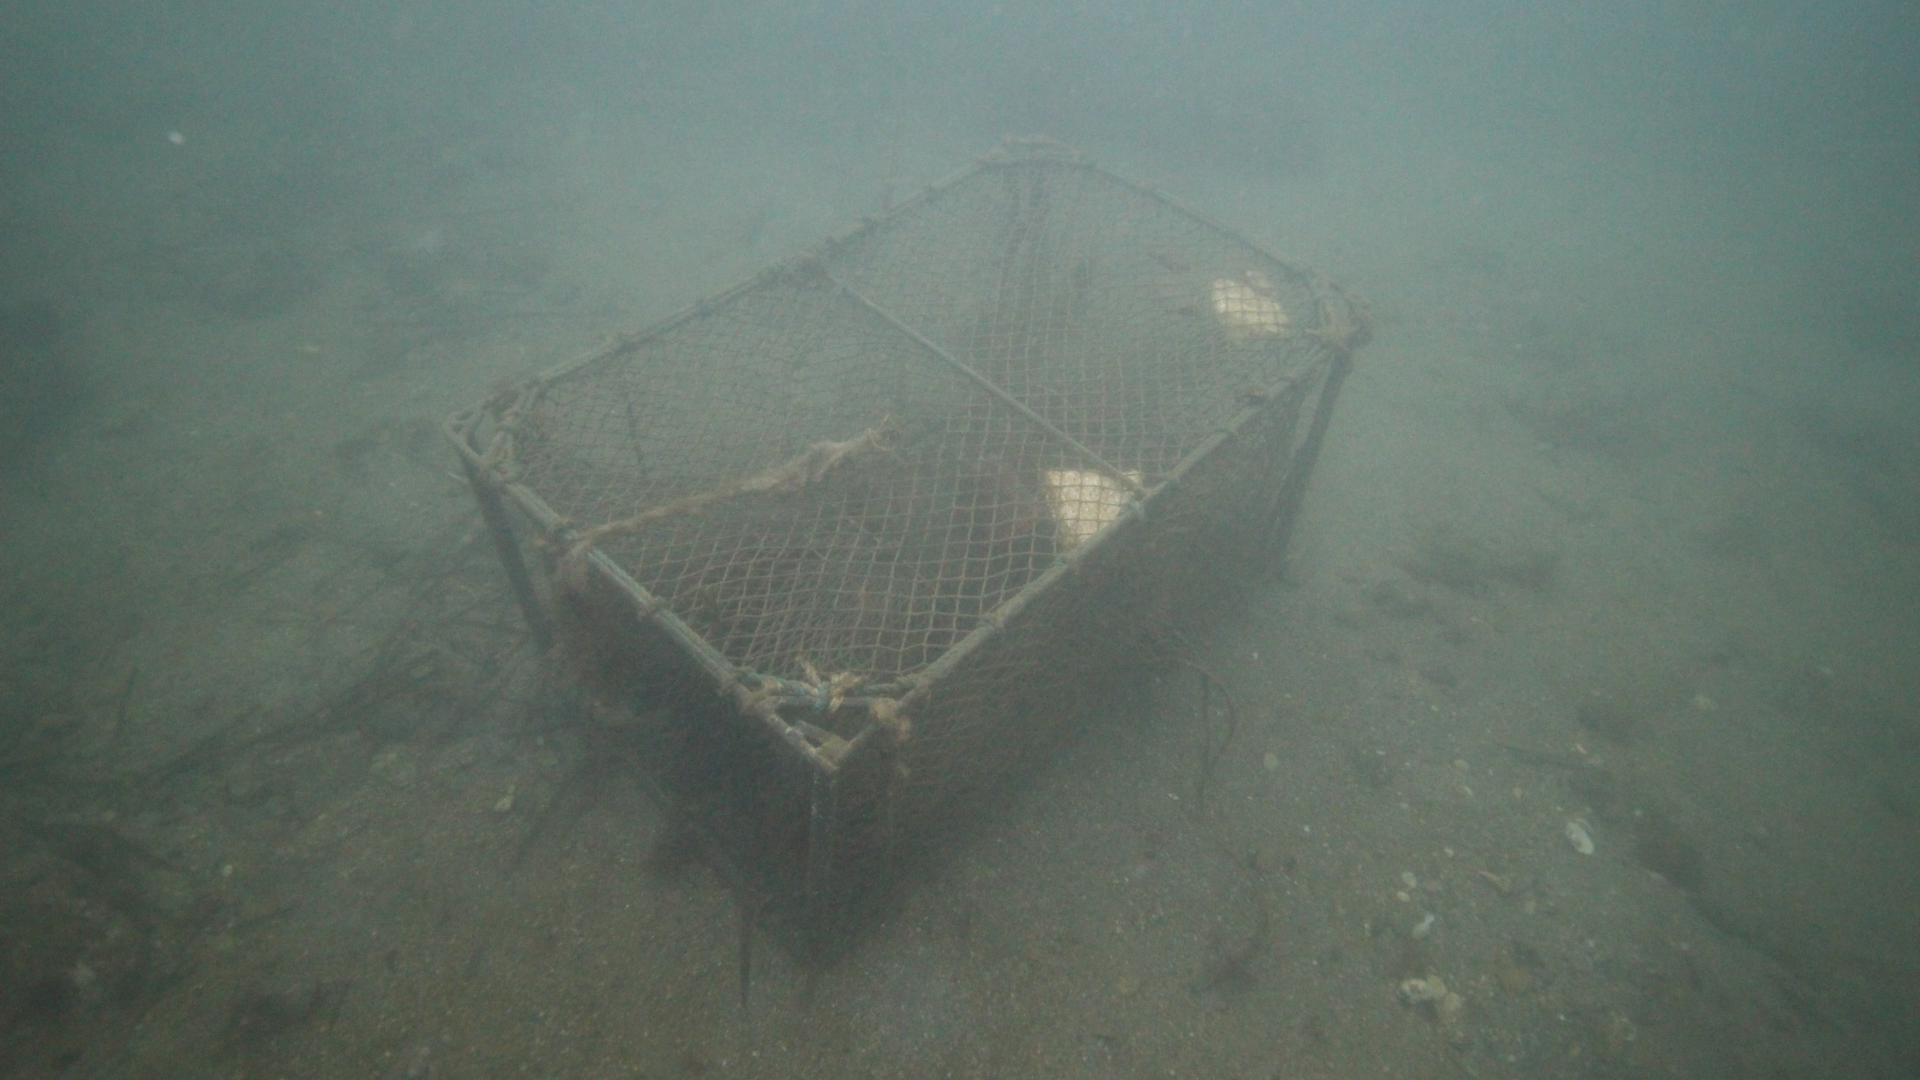rectangular fish trap: (435, 128, 1378, 976)
